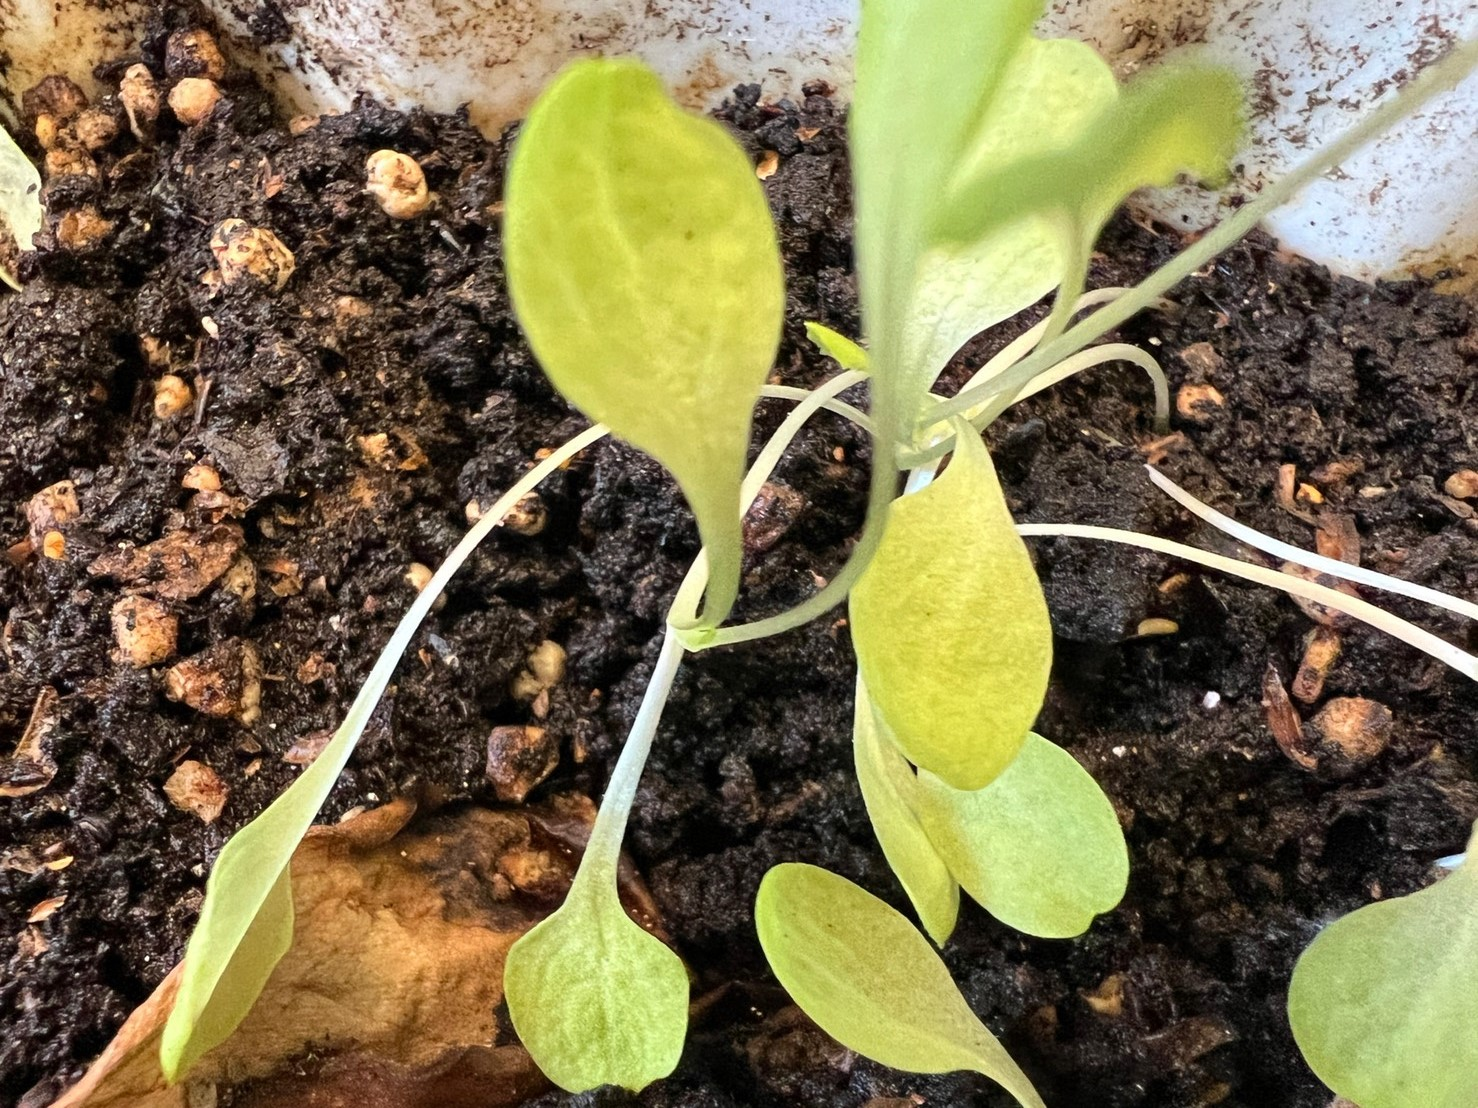week4: (155, 65, 833, 1077)
